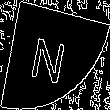N_N: (33, 26, 77, 84)
